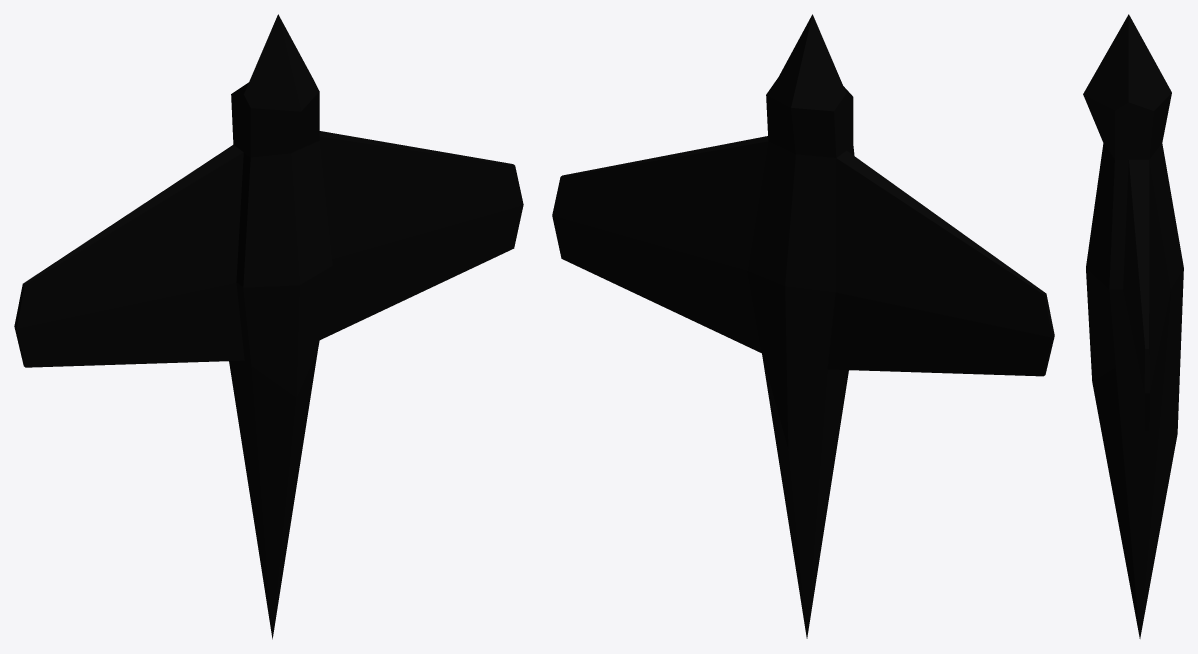
Rendered from P_TINY_CROW.fbx.
The picture shows the model from 3 angles, left to right: view 1: azimuth 30°, elevation 25°; view 2: azimuth 150°, elevation 25°; view 3: azimuth 270°, elevation 25°; orthographic projection.
Parts seen in each view (by area): view 1: MeshBaker_mesh_mesh; view 2: MeshBaker_mesh_mesh; view 3: MeshBaker_mesh_mesh.
Boxes of the visible parts, x1,y1,x2,y2 form: MeshBaker_mesh_mesh: (14, 14, 523, 639); MeshBaker_mesh_mesh: (552, 14, 1054, 638); MeshBaker_mesh_mesh: (1083, 14, 1183, 638).
Bounding box in the file's own units: 100 × 119 × 17.39.
Materials: 1 (1 with a texture image).
